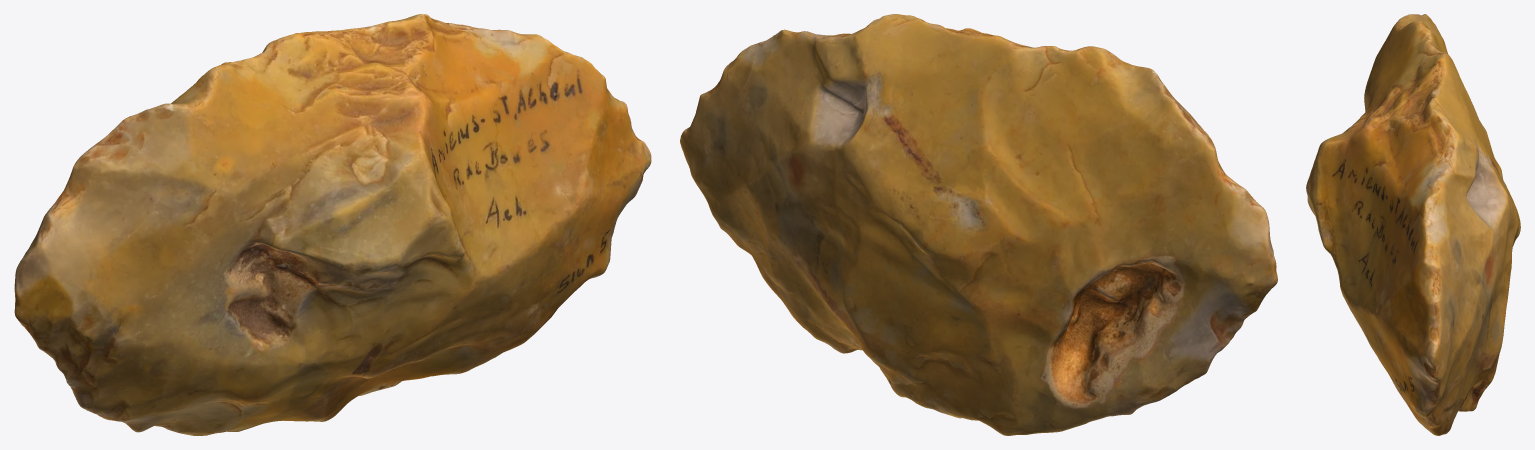
Rendered from medium.glb.
3 renders of one model, left to right at view 1: azimuth 30°, elevation 25°; view 2: azimuth 150°, elevation 25°; view 3: azimuth 270°, elevation 25°, orthographic. The views are drawn at different scales.
Visible parts, largest first — view 1: Object_2; view 2: Object_2; view 3: Object_2.
Boxes of the visible parts, x1=… form: Object_2: x1=14, y1=14, x2=651, y2=435; Object_2: x1=680, y1=14, x2=1277, y2=435; Object_2: x1=1306, y1=14, x2=1520, y2=435.
Bounding box in the file's own units: 0.0993 × 0.0603 × 0.0358.
Materials: 1 (1 with a texture image).
